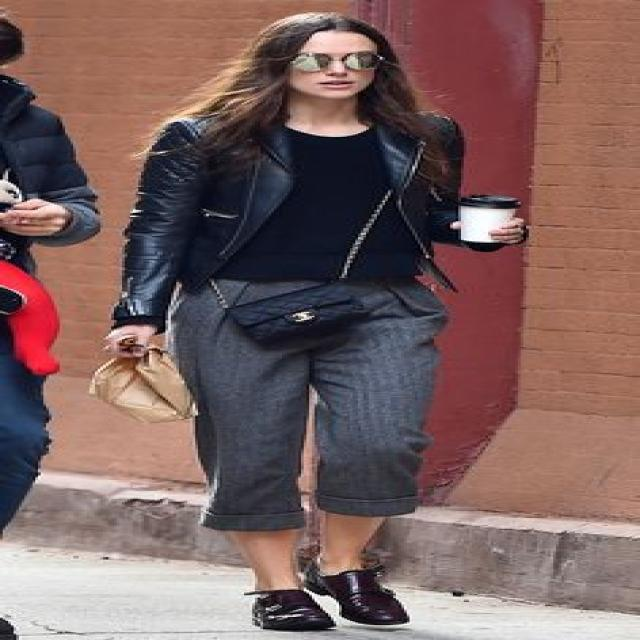handbag: (206, 264, 388, 350)
